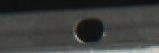holes: (73, 16, 105, 44)
